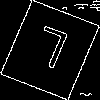L: (25, 25, 72, 79)
